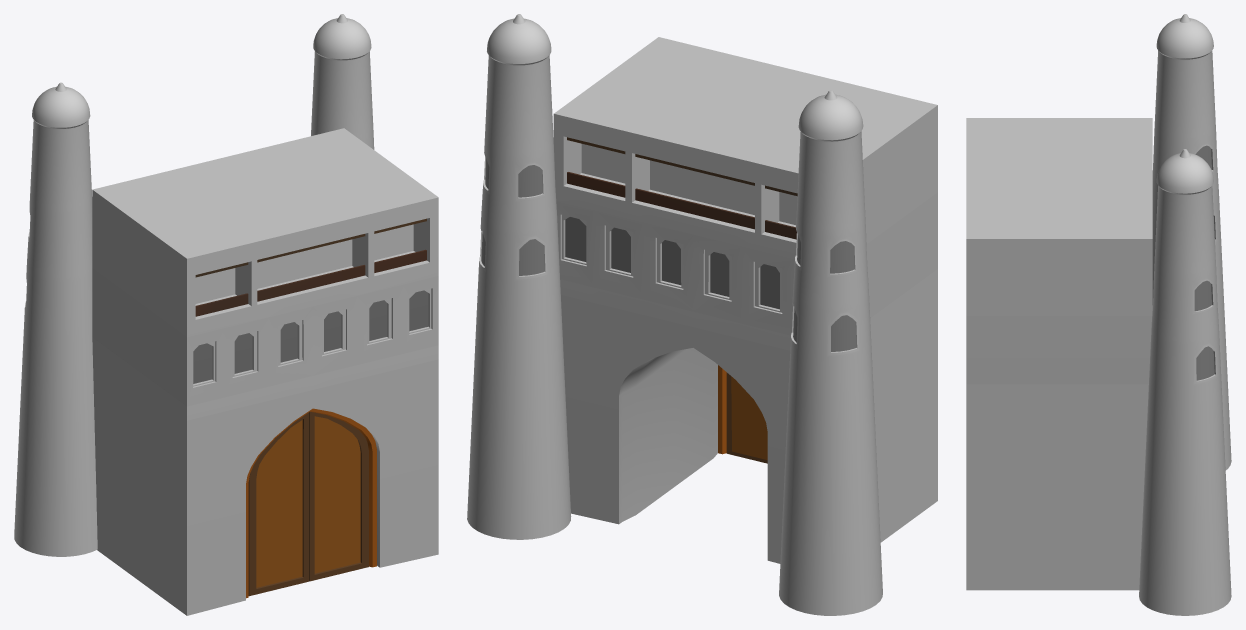
The model's file is Ark (2).fbx.
3 renders of one model, left to right at view 1: azimuth 30°, elevation 25°; view 2: azimuth 150°, elevation 25°; view 3: azimuth 270°, elevation 25°, orthographic. The views are drawn at different scales.
Visible parts, largest first — view 1: Ark, Minoralar, Ark_Darvozasi, Ark_Darvozasi.001, Rom; view 2: Ark, Minoralar, Ark_Darvozasi.001, Rom; view 3: Ark, Minoralar.
Boxes of the visible parts, bbox=[...] form: Ark: bbox=[92, 128, 438, 615]; Minoralar: bbox=[14, 14, 374, 556]; Ark_Darvozasi: bbox=[248, 412, 308, 596]; Ark_Darvozasi.001: bbox=[309, 411, 368, 581]; Rom: bbox=[246, 408, 376, 598]; Ark: bbox=[553, 37, 937, 563]; Minoralar: bbox=[467, 14, 882, 615]; Ark_Darvozasi.001: bbox=[726, 372, 767, 463]; Rom: bbox=[718, 365, 726, 454]; Ark: bbox=[966, 118, 1152, 590]; Minoralar: bbox=[1139, 14, 1231, 615].
Size of the model in its own units: 418 by 501 by 269.
